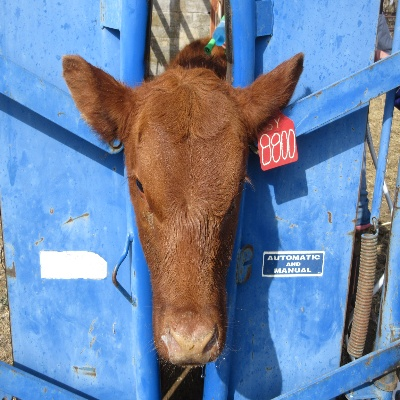fidget_spinner: (158, 323, 223, 365)
